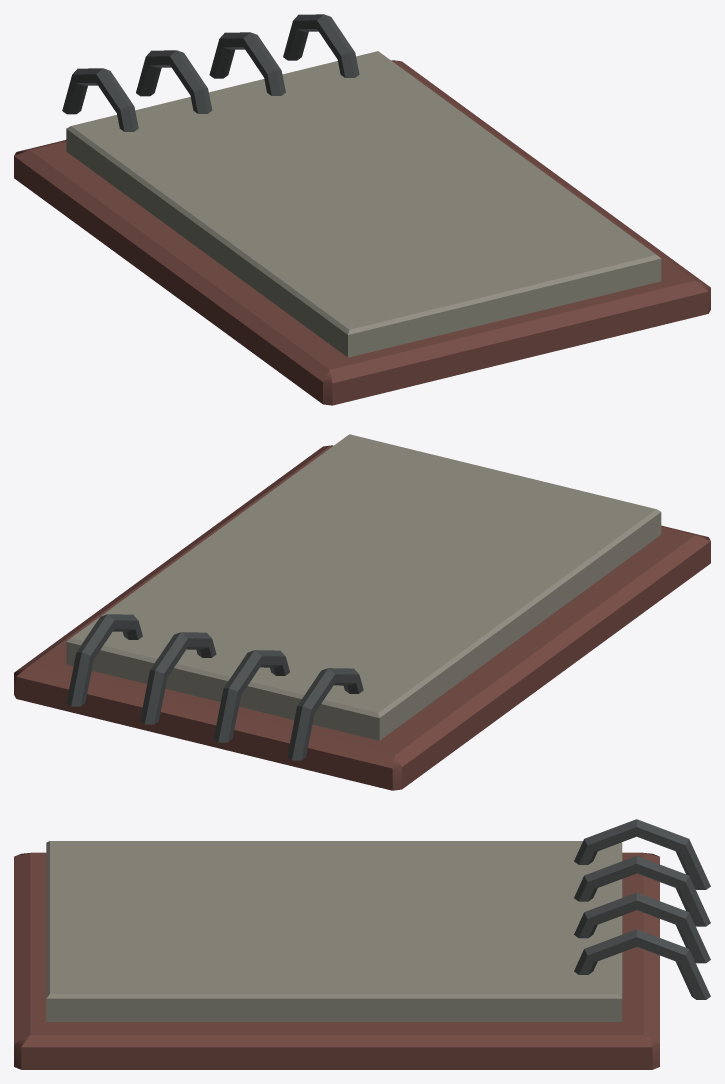
Rendered from carnet.fbx.
3 views of the same model, one above another, from view 1: azimuth 30°, elevation 25°; view 2: azimuth 150°, elevation 25°; view 3: azimuth 270°, elevation 25° (orthographic). The views are drawn at different scales.
Parts seen in each view (by area): view 1: polySurface6; view 2: polySurface6; view 3: polySurface6.
Boxes of the visible parts, x1,y1,x2,y2 form: polySurface6: (14,14,710,405); polySurface6: (14,434,710,790); polySurface6: (14,819,710,1069).
Bounding box in the file's own units: 14.17 × 3.35 × 21.58.
